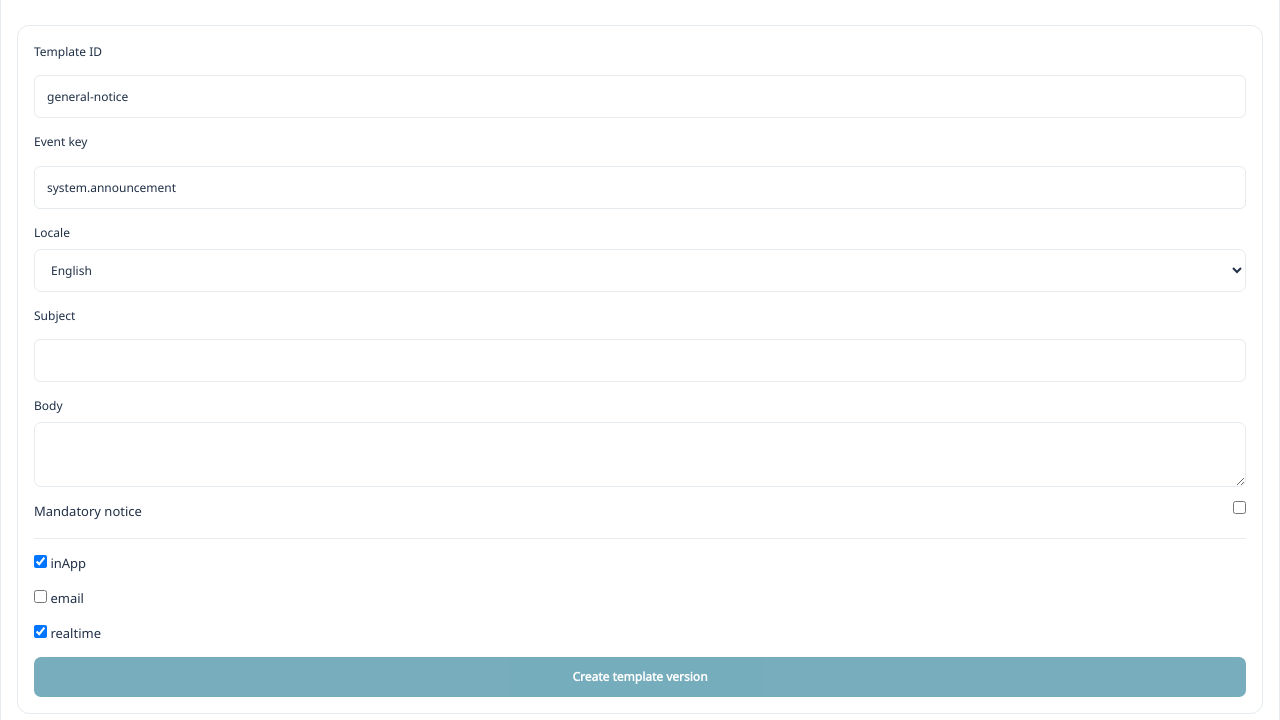
Test: NotificationsWorkspace › lets Admin publish a template and send a system notice
The image size is (1280, 720).
(page scrolled)
Type "System maintenance" into the field labelled "Subject". click: (640, 361)
box: [34,339,1246,382]
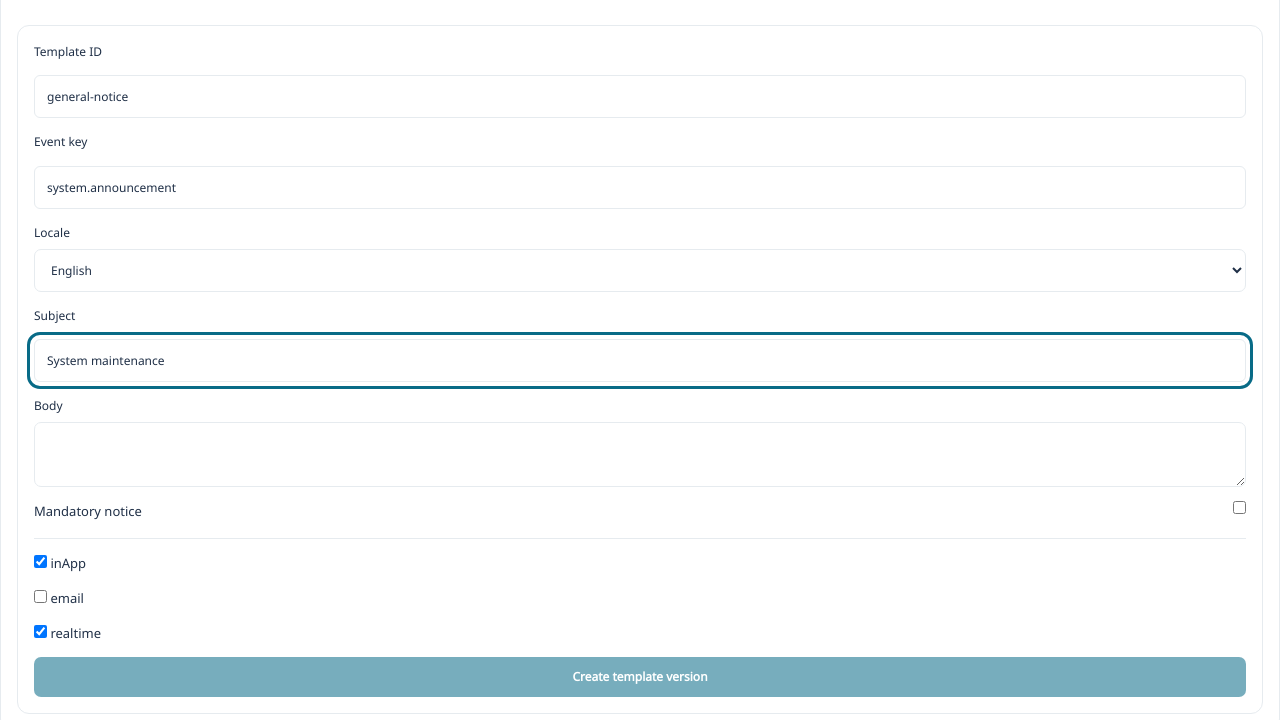
Type "The service will be updated tonight." into the text box labelled "Body". click: (640, 455)
box: [34,422,1246,487]
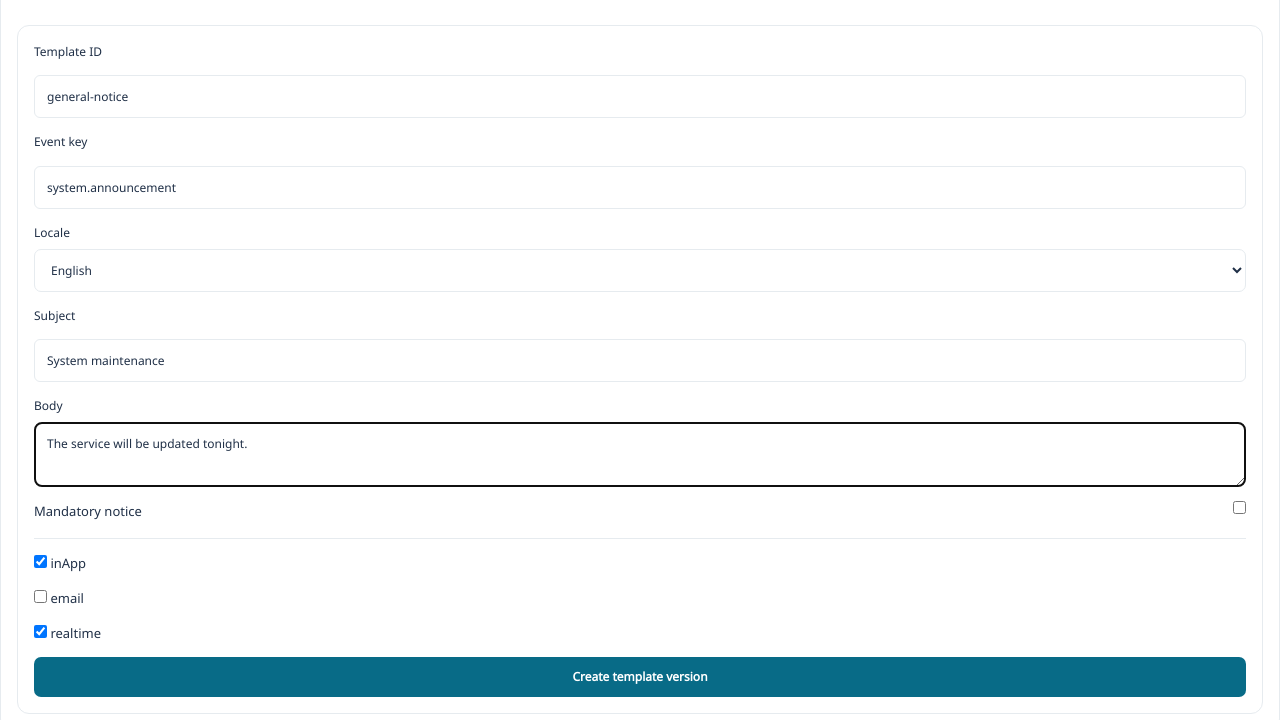
Click the button "Create template version". click: (640, 677)
box: [34,657,1246,697]
(page scrolled)
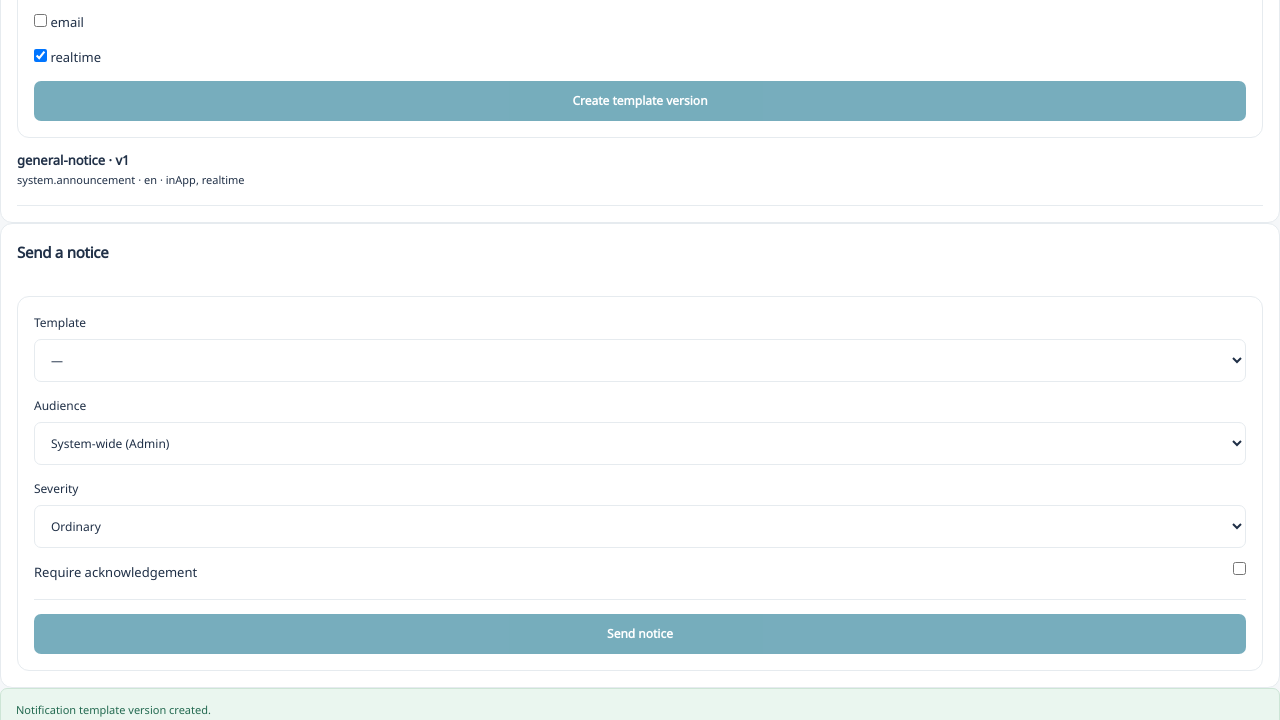
Select "general-notice" in the dropdown labelled "Template". click: (640, 360)
box: [34,339,1246,382]
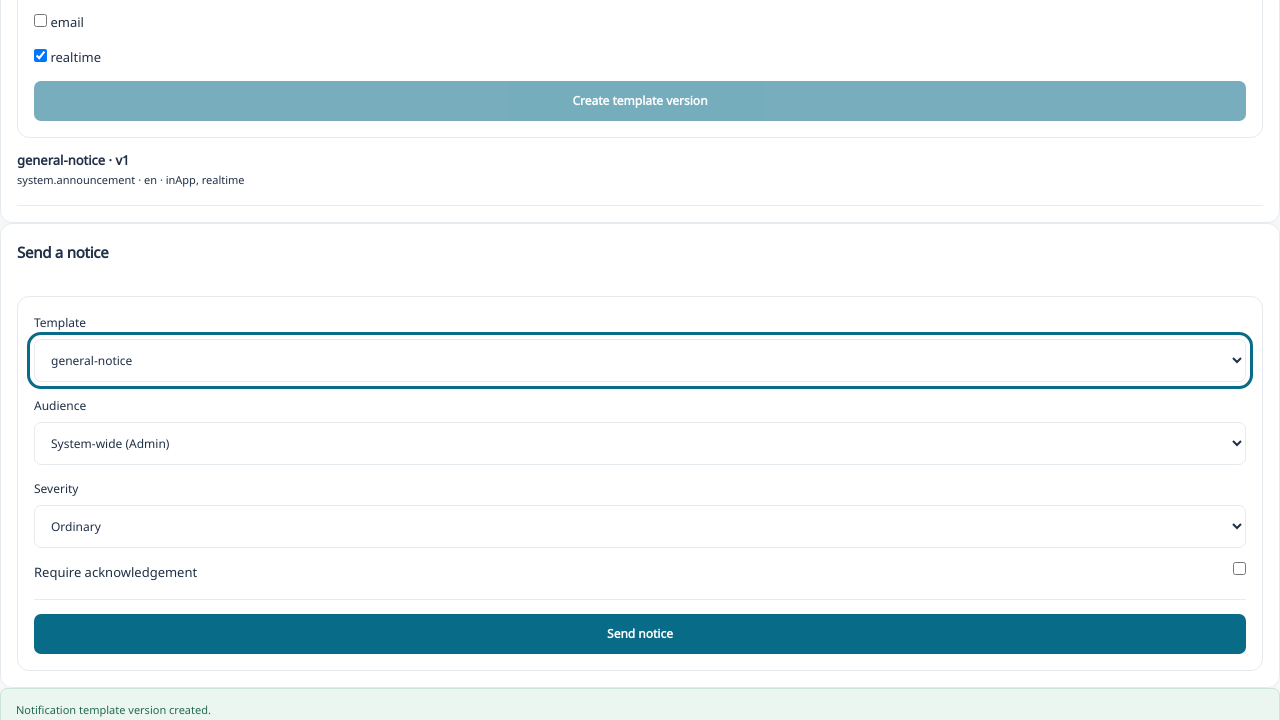
Click the button "Send notice". click: (640, 634)
box: [34,614,1246,654]
(page scrolled)
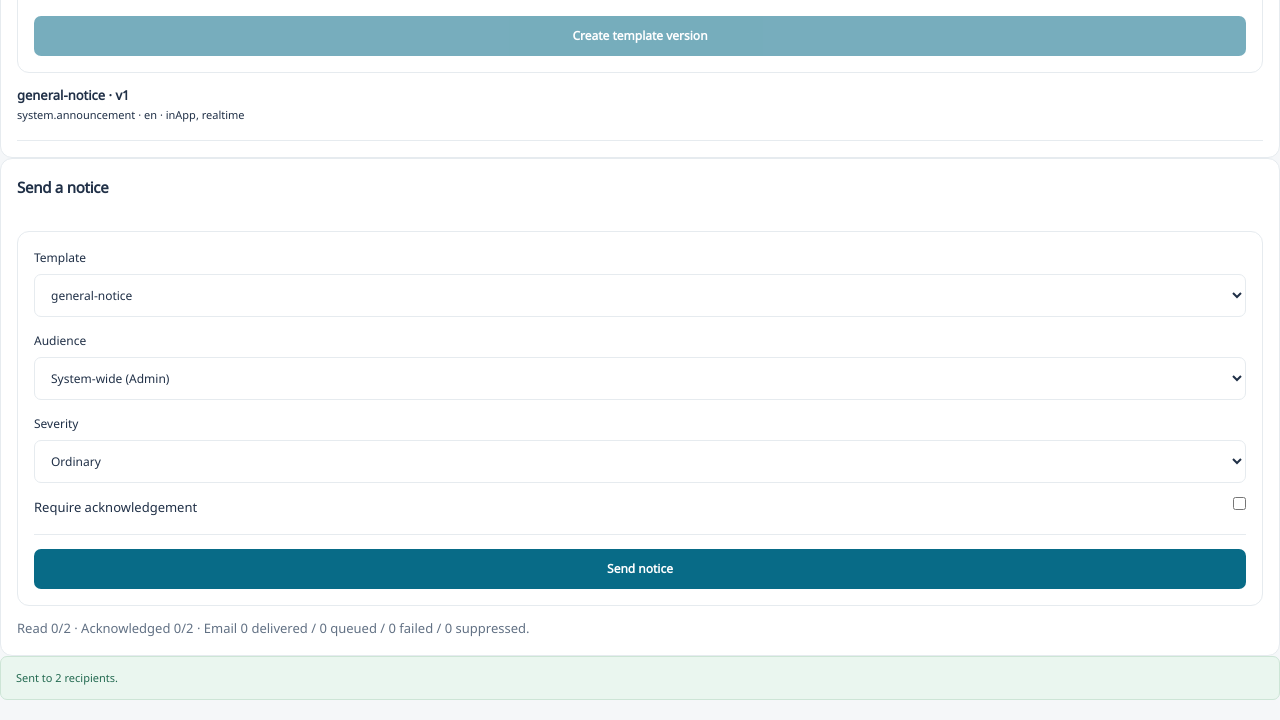
expect the text "Sent to 2 recipients." is shown: met, box [0,656,1279,700]
